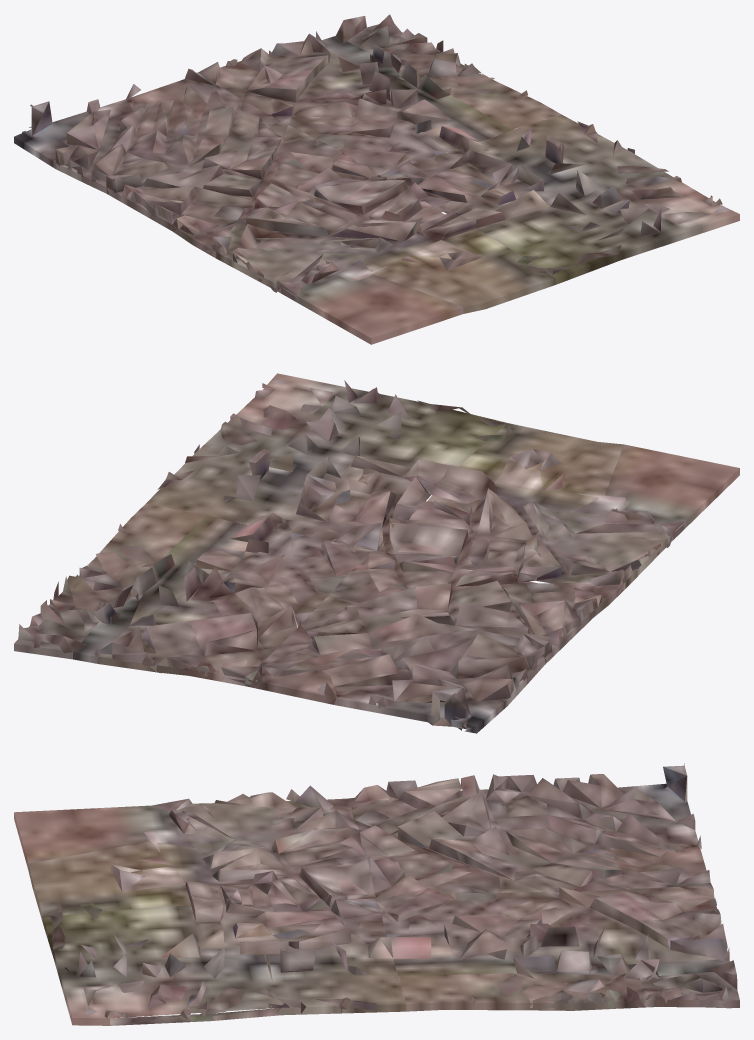
The picture shows the model from 3 angles, top to bottom: view 1: azimuth 30°, elevation 25°; view 2: azimuth 150°, elevation 25°; view 3: azimuth 270°, elevation 25°; orthographic projection. The views are drawn at different scales.
Visible parts, largest first — view 1: Mesh_0; view 2: Mesh_0; view 3: Mesh_0.
Part boxes in pixels (bbox=[...]): Mesh_0: bbox=[14, 14, 739, 344]; Mesh_0: bbox=[14, 373, 739, 733]; Mesh_0: bbox=[14, 763, 739, 1025].
Bounding box in the file's own units: 1065 × 89 × 1318.
Materials: 1 (1 with a texture image).
